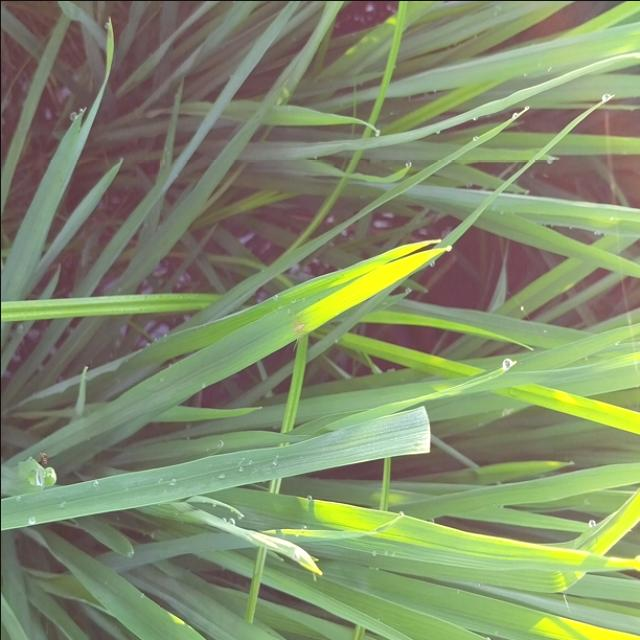Wereng: (34, 448, 51, 469)
